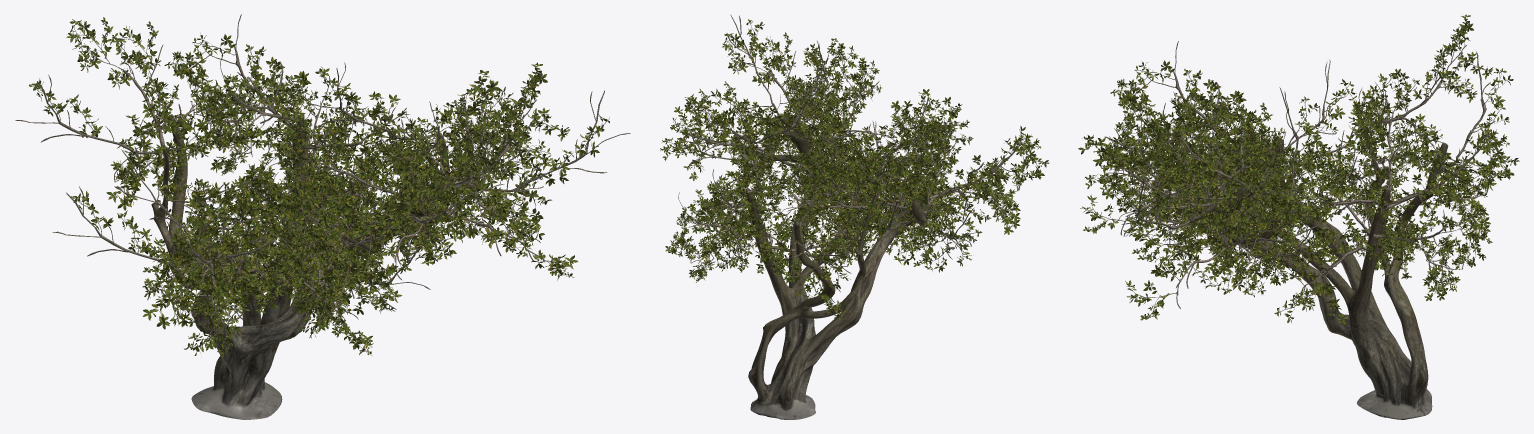
Rendered from tree_02.glb.
3 views of the same model, side by side, from view 1: azimuth 30°, elevation 25°; view 2: azimuth 150°, elevation 25°; view 3: azimuth 270°, elevation 25° (orthographic). The views are drawn at different scales.
Parts seen in each view (by area): view 1: island_tree_02_LOD0; view 2: island_tree_02_LOD0; view 3: island_tree_02_LOD0.
Boxes of the visible parts, x1,y1,x2,y2 form: island_tree_02_LOD0: [15, 14, 630, 419]; island_tree_02_LOD0: [660, 14, 1049, 419]; island_tree_02_LOD0: [1078, 14, 1519, 419].
Size of the model in its own units: 4.21 by 3.41 by 4.07.
Materials: 3 (3 with a texture image).
